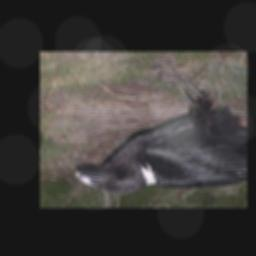Crow: (75, 57, 247, 195)
